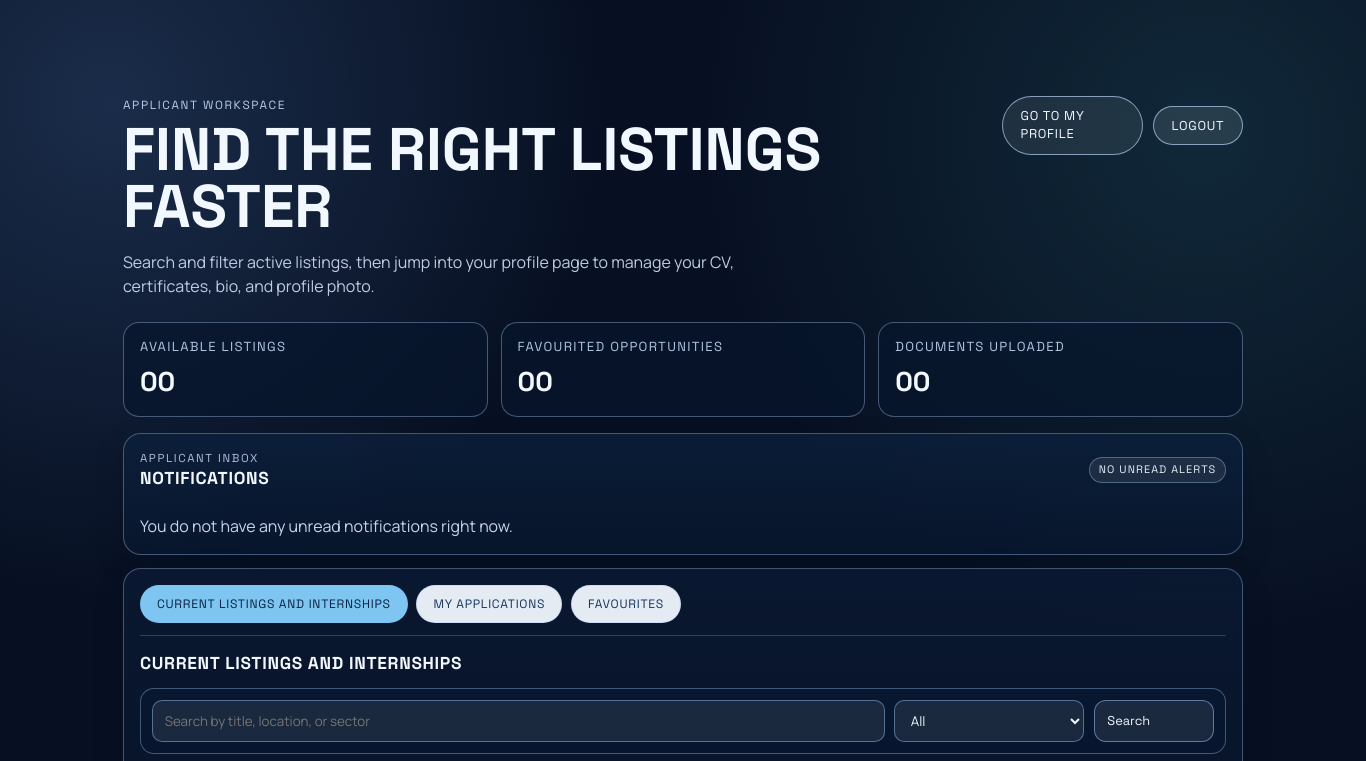
Test case: Applicant dashboard application tracking acceptance tests › shows each submitted application with the requested status label
Click the tab "My Applications" at (489, 604), box [416,585,562,623]
(page scrolled)
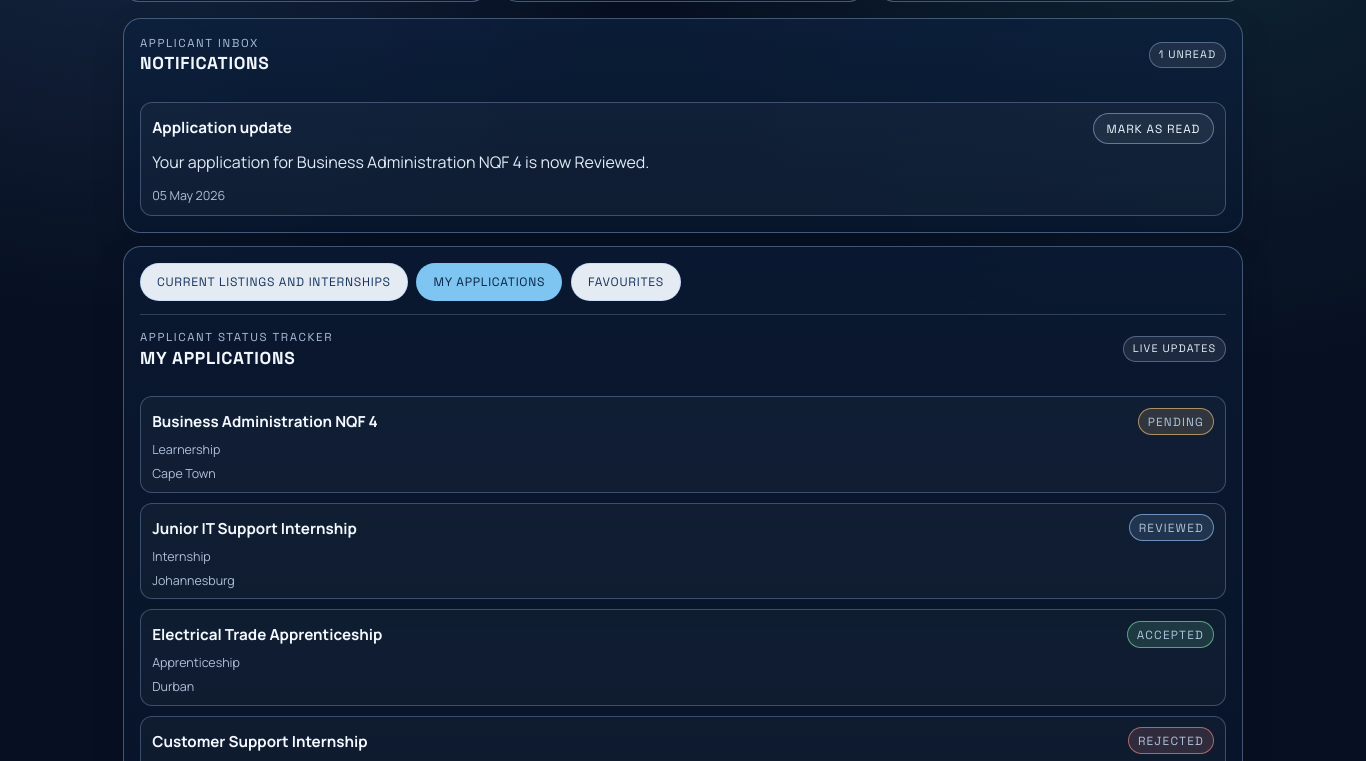
Now the heading "My Applications" is shown, box [140,347,295,369]
Now the text "Business Administration NQF 4" is shown, box [152,412,378,431]
Now the text "Junior IT Support Internship" is shown, box [152,519,357,538]
